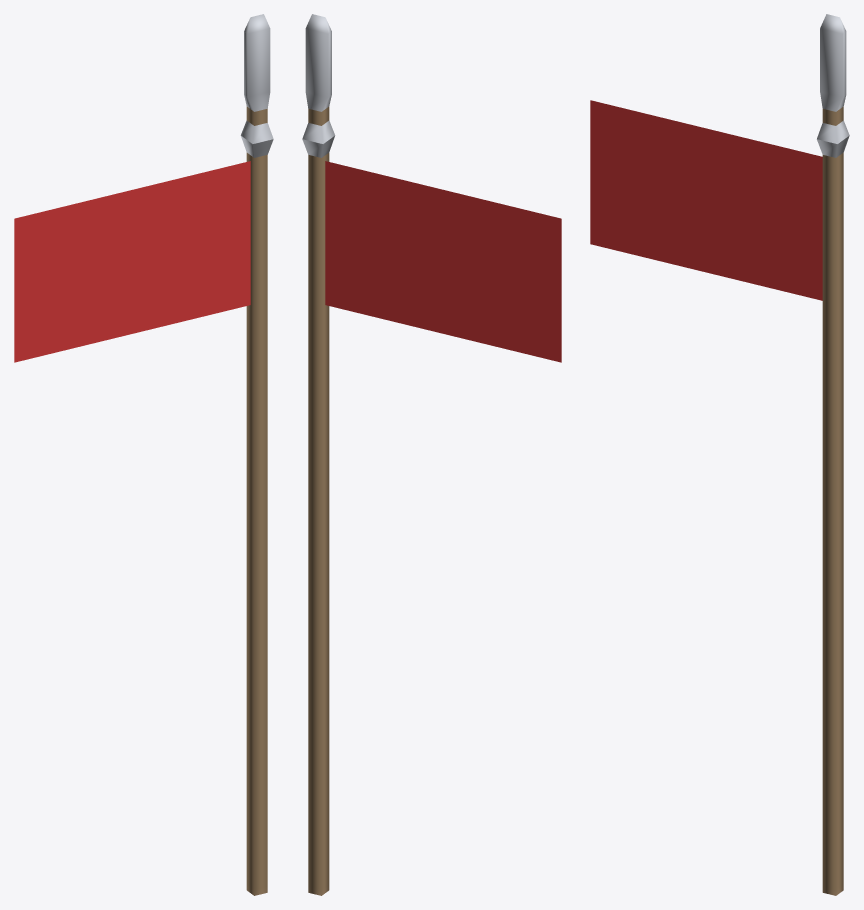
File: FlagPole2.fbx
The picture shows the model from 3 angles, left to right: view 1: azimuth 30°, elevation 25°; view 2: azimuth 150°, elevation 25°; view 3: azimuth 330°, elevation 25°; orthographic projection.
Visible parts, largest first — view 1: Plane, Pole; view 2: Plane, Pole; view 3: Plane, Pole.
Part boxes in pixels (x1,y1,x2,y2): Plane: [14, 161, 250, 362]; Pole: [240, 14, 273, 895]; Plane: [325, 161, 561, 362]; Pole: [302, 14, 335, 895]; Plane: [590, 100, 822, 300]; Pole: [817, 14, 849, 895].
Bounding box in the file's own units: 161 × 529 × 13.2.
Materials: 1 (1 with a texture image).
